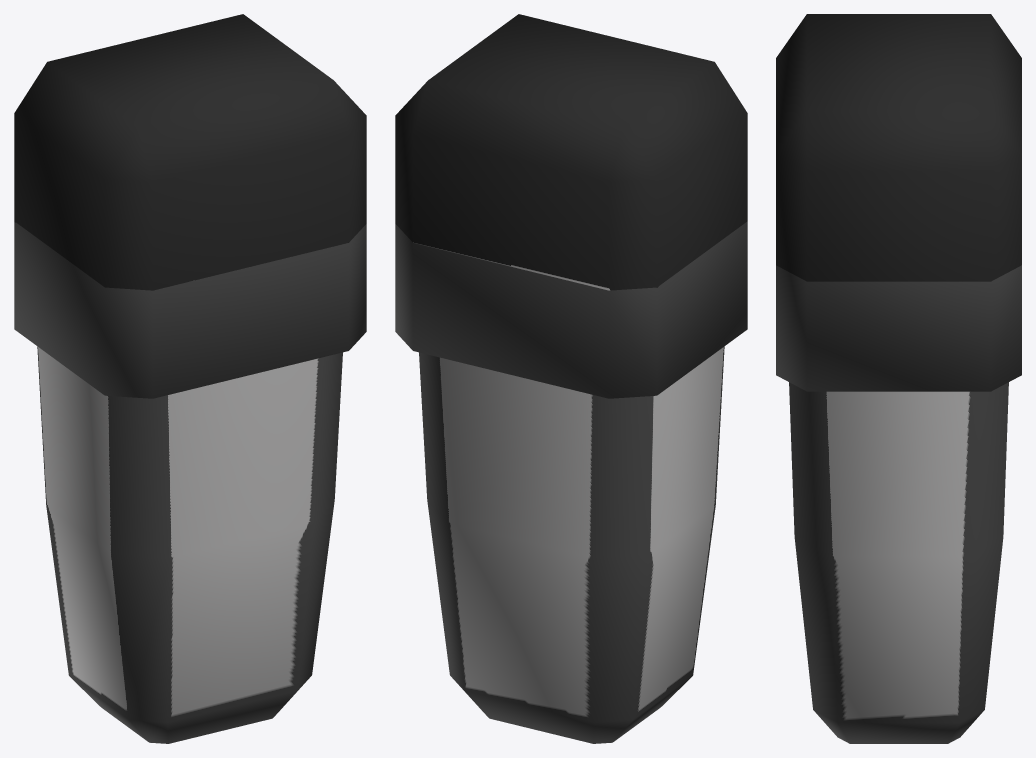
Rendered from LArmAbove.fbx.
3 renders of one model, left to right at view 1: azimuth 30°, elevation 25°; view 2: azimuth 150°, elevation 25°; view 3: azimuth 270°, elevation 25°, orthographic.
Parts seen in each view (by area): view 1: Shape_IndexedFaceSet.044; view 2: Shape_IndexedFaceSet.044; view 3: Shape_IndexedFaceSet.044.
Boxes of the visible parts, x1=… form: Shape_IndexedFaceSet.044: x1=14, y1=14, x2=366, y2=743; Shape_IndexedFaceSet.044: x1=395, y1=14, x2=747, y2=743; Shape_IndexedFaceSet.044: x1=776, y1=14, x2=1021, y2=743.
Size of the model in its own units: 0.1013 by 0.2361 by 0.0811.
1 material, 1 textured.
